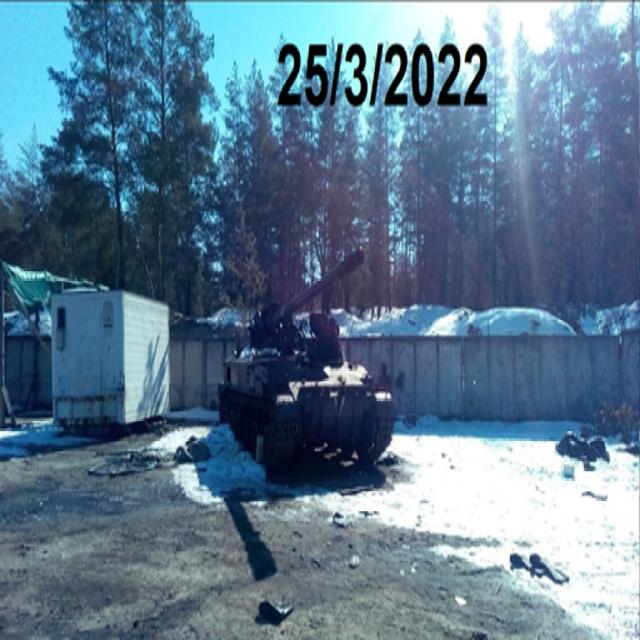ART: (218, 240, 398, 473)
